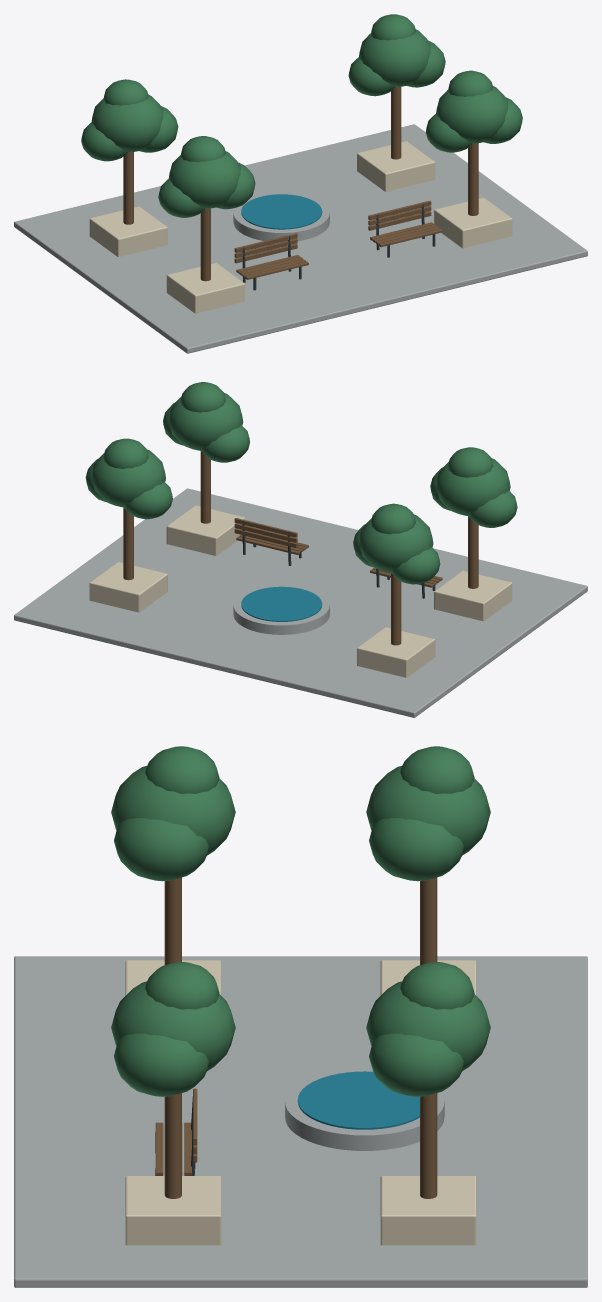
The model's file is kiez-courtyard.glb.
3 views of the same model, one above another, from view 1: azimuth 30°, elevation 25°; view 2: azimuth 150°, elevation 25°; view 3: azimuth 270°, elevation 25° (orthographic). The views are drawn at different scales.
Visible parts, largest first — view 1: DC_Mesh_DC_Concrete, DC_Mesh_DC_Green, DC_Mesh_DC_Ivory, DC_Mesh_DC_Wood, DC_Mesh_DC_PoolWater, DC_Mesh_DC_Steel; view 2: DC_Mesh_DC_Concrete, DC_Mesh_DC_Green, DC_Mesh_DC_Ivory, DC_Mesh_DC_Wood, DC_Mesh_DC_PoolWater; view 3: DC_Mesh_DC_Concrete, DC_Mesh_DC_Green, DC_Mesh_DC_Ivory, DC_Mesh_DC_Wood, DC_Mesh_DC_PoolWater.
Part boxes in pixels (<box>): DC_Mesh_DC_Concrete: <box>14,124,587,353</box>; DC_Mesh_DC_Green: <box>81,14,522,217</box>; DC_Mesh_DC_Ivory: <box>89,141,512,313</box>; DC_Mesh_DC_Wood: <box>123,87,478,281</box>; DC_Mesh_DC_PoolWater: <box>241,194,322,229</box>; DC_Mesh_DC_Steel: <box>242,203,435,290</box>; DC_Mesh_DC_Concrete: <box>14,488,587,717</box>; DC_Mesh_DC_Green: <box>85,382,517,584</box>; DC_Mesh_DC_Ivory: <box>89,505,512,677</box>; DC_Mesh_DC_Wood: <box>123,451,478,645</box>; DC_Mesh_DC_PoolWater: <box>241,586,322,621</box>; DC_Mesh_DC_Concrete: <box>14,956,587,1287</box>; DC_Mesh_DC_Green: <box>111,746,490,1096</box>; DC_Mesh_DC_Ivory: <box>125,960,476,1245</box>; DC_Mesh_DC_Wood: <box>155,877,437,1198</box>; DC_Mesh_DC_PoolWater: <box>297,1071,419,1129</box>.
Size of the model in its own units: 12 by 4.65 by 9.
